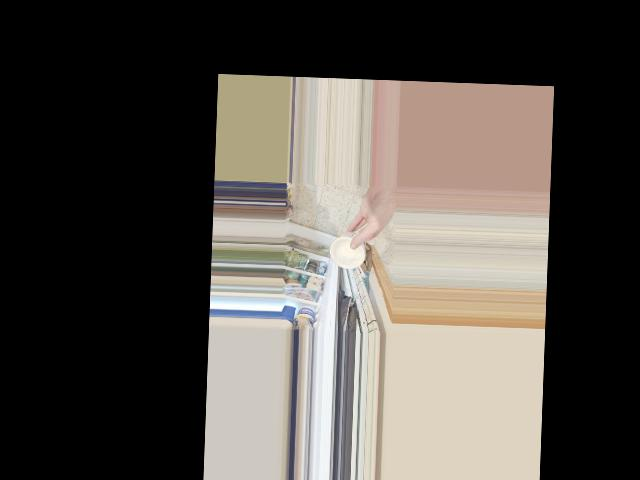cotage: (330, 228, 367, 274)
